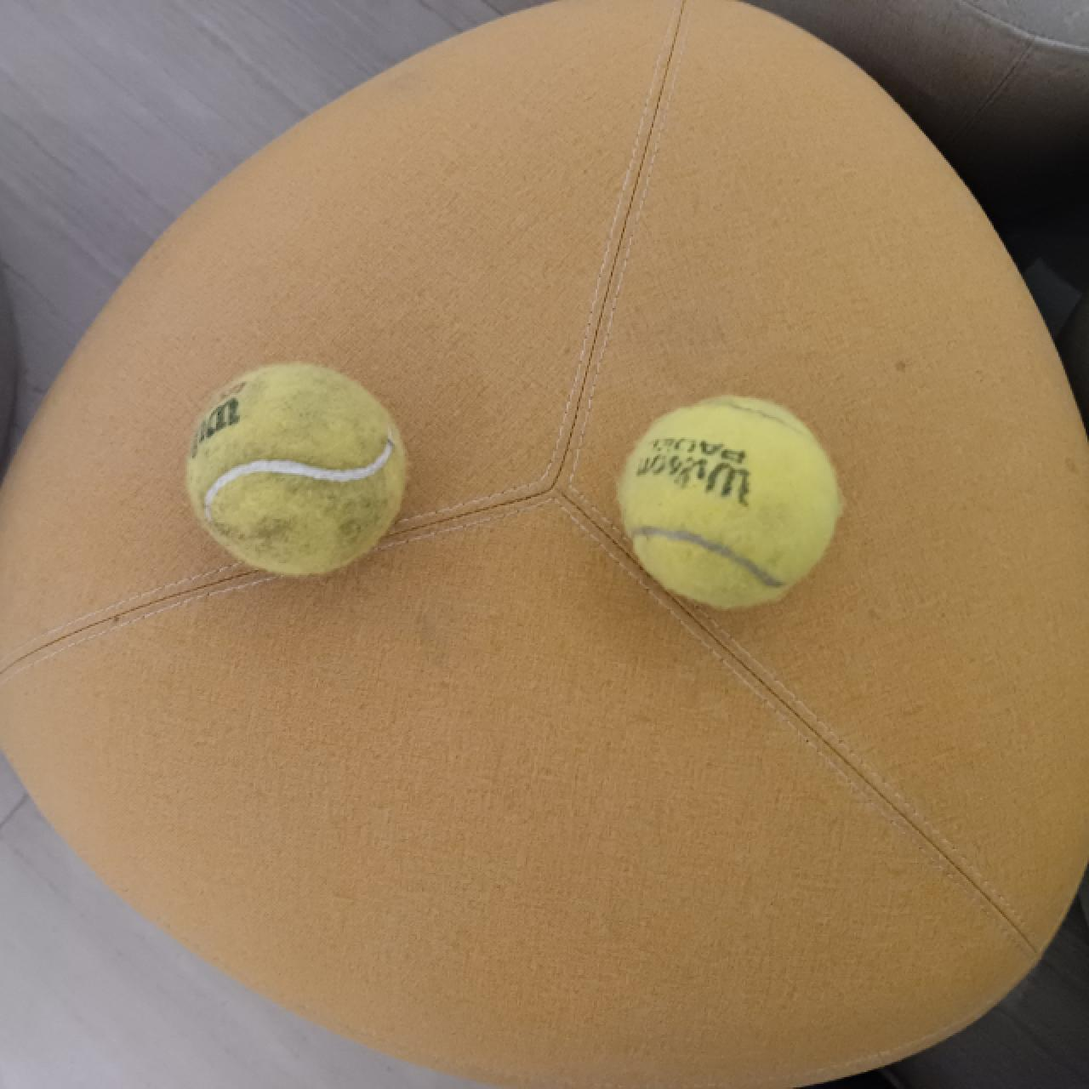tennis-ball: (614, 393, 849, 613), (184, 362, 413, 580)
